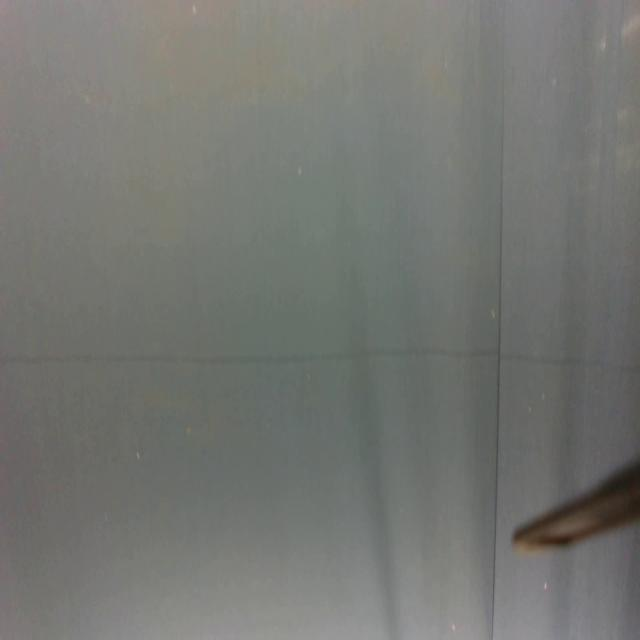color bleeding: (1, 344, 636, 376)
crease: (489, 0, 507, 640)
hole: (543, 580, 549, 592)
